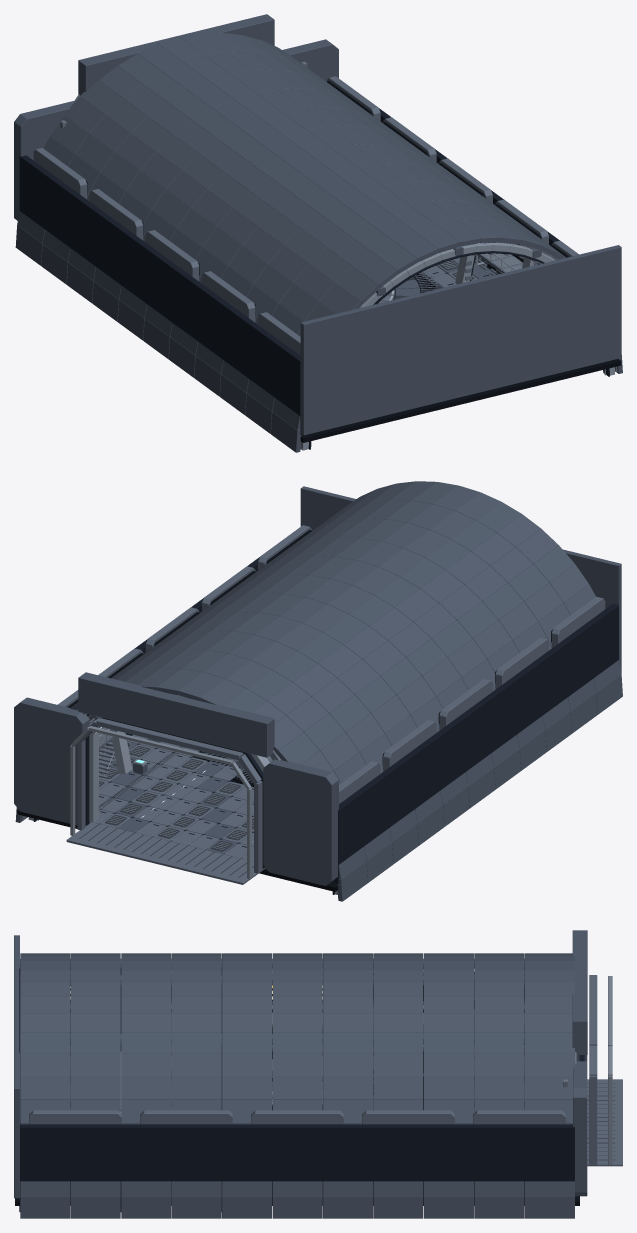
The model's file is citadel_hangar_phase1.glb.
The picture shows the model from 3 angles, top to bottom: view 1: azimuth 30°, elevation 25°; view 2: azimuth 150°, elevation 25°; view 3: azimuth 270°, elevation 25°; orthographic projection.
Visible parts, largest first — view 1: 01 | Annular pressure hull and offset armor tiles, 13 | Internal transit lock and bridge abutments, 05 | Layered district wall -1, 14 | Octagonal pressure vestibule and retracted door mechani, 11 | Radial segmented deck and maintenance wells, 06 | Layered district wall 1, 02 | Five load couplings and laminated annular frames; view 2: 01 | Annular pressure hull and offset armor tiles, 14 | Octagonal pressure vestibule and retracted door mechani, 05 | Layered district wall -1, 11 | Radial segmented deck and maintenance wells, 06 | Layered district wall 1, 13 | Internal transit lock and bridge abutments, 12 | Open service trench grating and fasteners, 10 | Mezzanine bridgework 1; view 3: 01 | Annular pressure hull and offset armor tiles, 06 | Layered district wall 1, 14 | Octagonal pressure vestibule and retracted door mechani, 13 | Internal transit lock and bridge abutments, 11 | Radial segmented deck and maintenance wells, 02 | Five load couplings and laminated annular frames, 03 | Ceiling heat exchangers and mechanical keel.
Boxes of the visible parts, left/top/right/bottom form: 01 | Annular pressure hull and offset armor tiles: left=15, top=32, right=622, bottom=452; 13 | Internal transit lock and bridge abutments: left=300, top=245, right=621, bottom=435; 05 | Layered district wall -1: left=19, top=148, right=301, bottom=434; 14 | Octagonal pressure vestibule and retracted door mechani: left=14, top=14, right=338, bottom=220; 11 | Radial segmented deck and maintenance wells: left=300, top=258, right=621, bottom=442; 06 | Layered district wall 1: left=327, top=76, right=578, bottom=284; 02 | Five load couplings and laminated annular frames: left=300, top=242, right=614, bottom=450; 01 | Annular pressure hull and offset armor tiles: left=15, top=481, right=622, bottom=901; 14 | Octagonal pressure vestibule and retracted door mechani: left=14, top=672, right=338, bottom=885; 05 | Layered district wall -1: left=270, top=596, right=618, bottom=883; 11 | Radial segmented deck and maintenance wells: left=17, top=735, right=338, bottom=891; 06 | Layered district wall 1: left=57, top=525, right=311, bottom=774; 13 | Internal transit lock and bridge abutments: left=300, top=486, right=621, bottom=672; 12 | Open service trench grating and fasteners: left=79, top=734, right=268, bottom=877; 10 | Mezzanine bridgework 1: left=89, top=720, right=117, bottom=778; 01 | Annular pressure hull and offset armor tiles: left=20, top=953, right=574, bottom=1218; 06 | Layered district wall 1: left=20, top=1052, right=576, bottom=1200; 14 | Octagonal pressure vestibule and retracted door mechani: left=563, top=930, right=622, bottom=1196; 13 | Internal transit lock and bridge abutments: left=14, top=935, right=19, bottom=1198; 11 | Radial segmented deck and maintenance wells: left=15, top=1049, right=579, bottom=1205; 02 | Five load couplings and laminated annular frames: left=19, top=968, right=221, bottom=1211; 03 | Ceiling heat exchangers and mechanical keel: left=20, top=958, right=524, bottom=1075.
Size of the model in its own units: 37 by 18.5 by 60.35.
